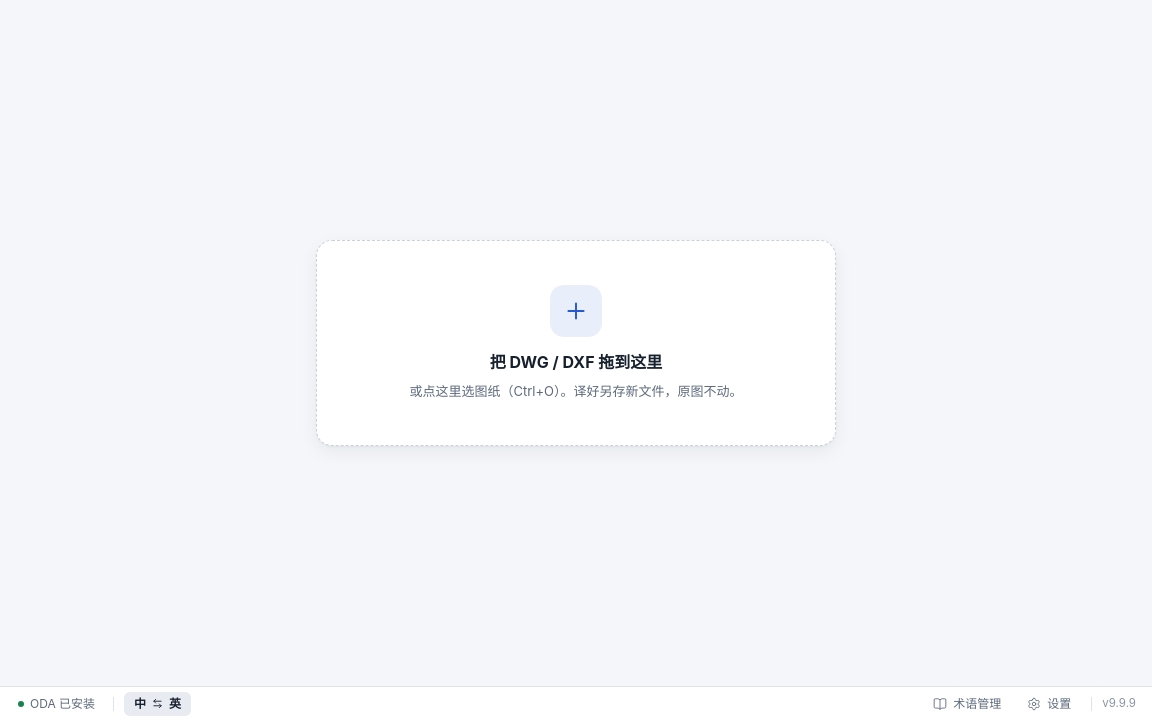
settings › picks an output folder and Escape goes back
The image size is (1152, 720).
Click the button "设置" at (1049, 704), box [1017, 690, 1081, 716]
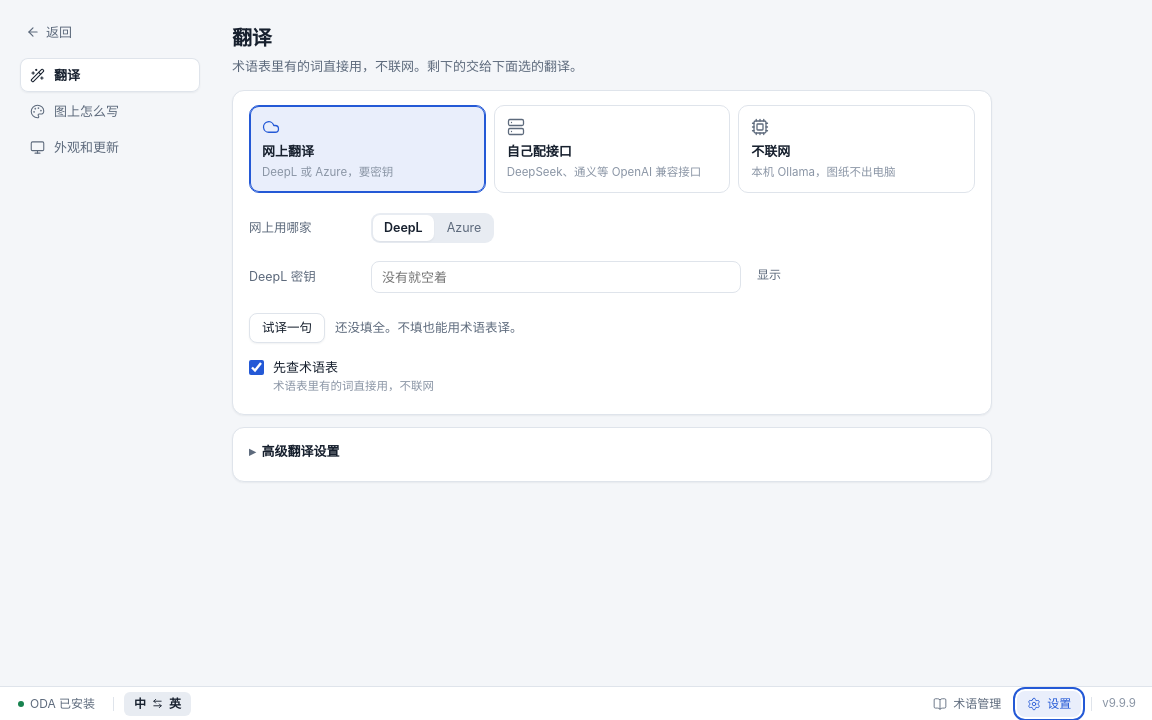
Click the tab "图上怎么写" at (110, 111), box [20, 94, 200, 128]
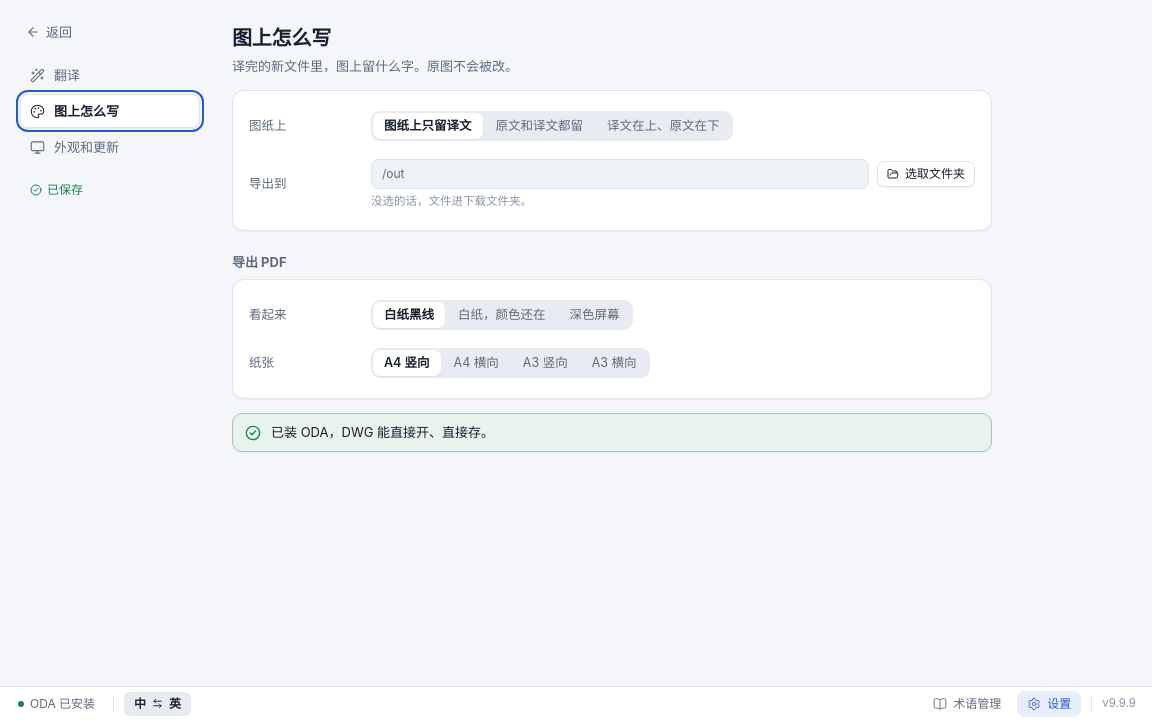
Click the button "选取文件夹" at (926, 174), box [877, 161, 975, 187]
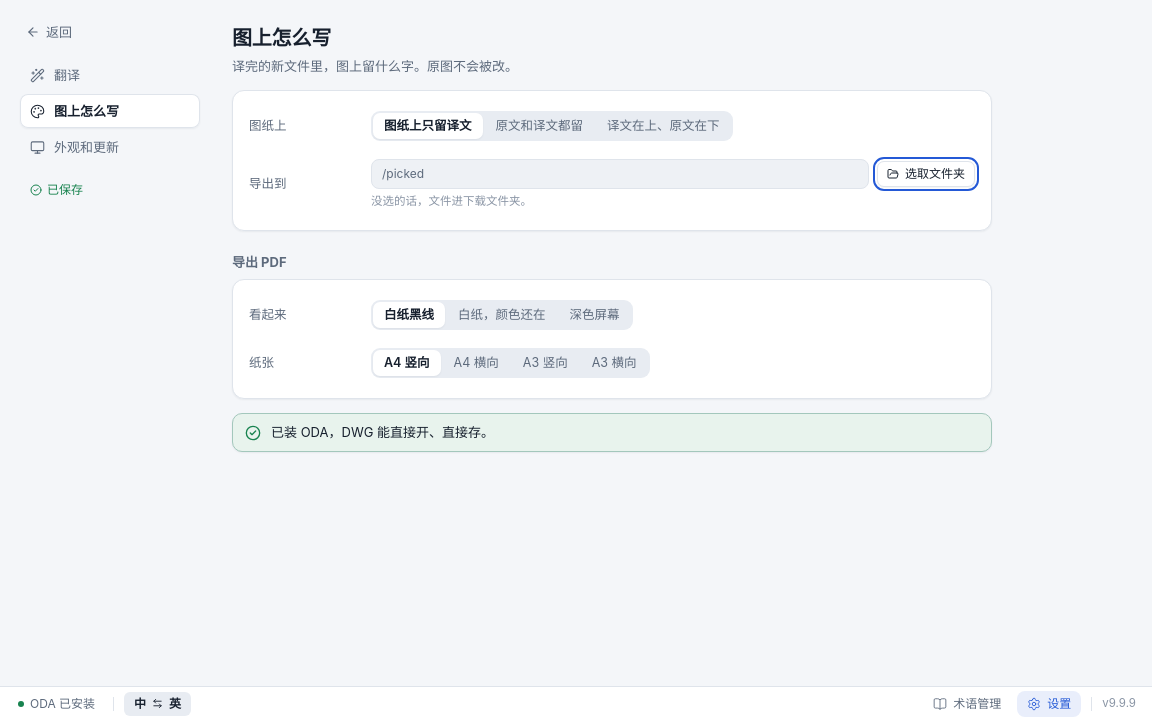
Result: the text "/picked" is shown at [371, 159, 869, 189]
Press Escape
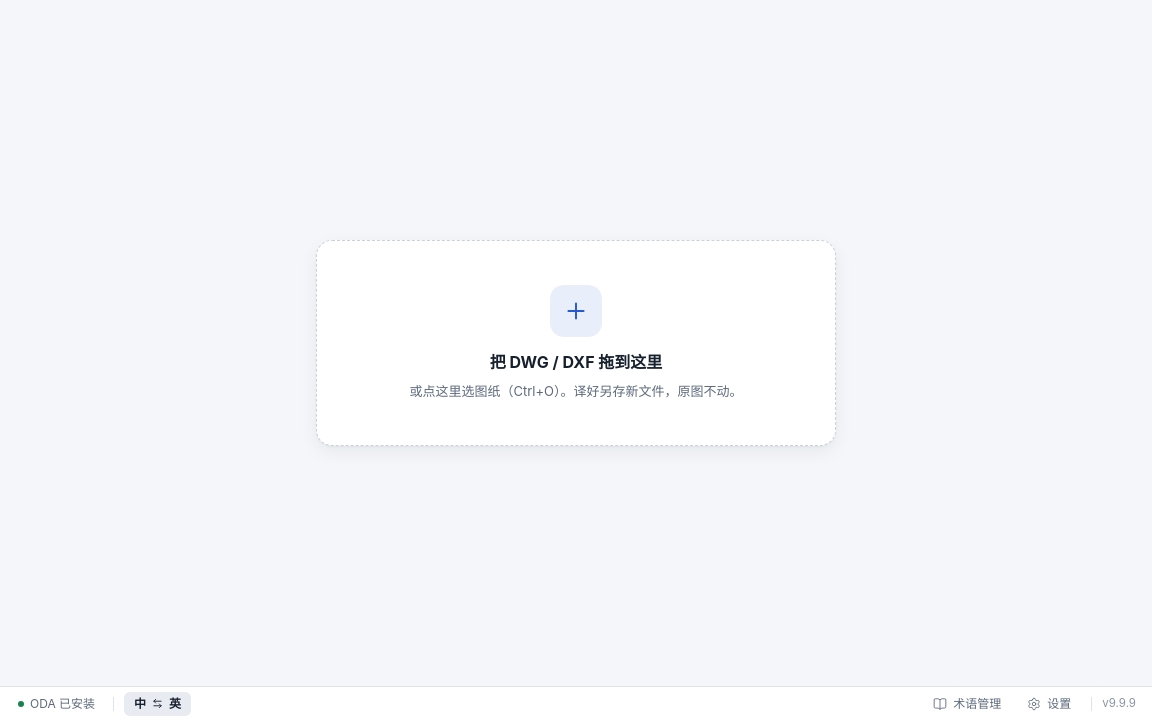
Result: the text "把 DWG / DXF 拖到这里" is shown at [490, 351, 662, 374]
